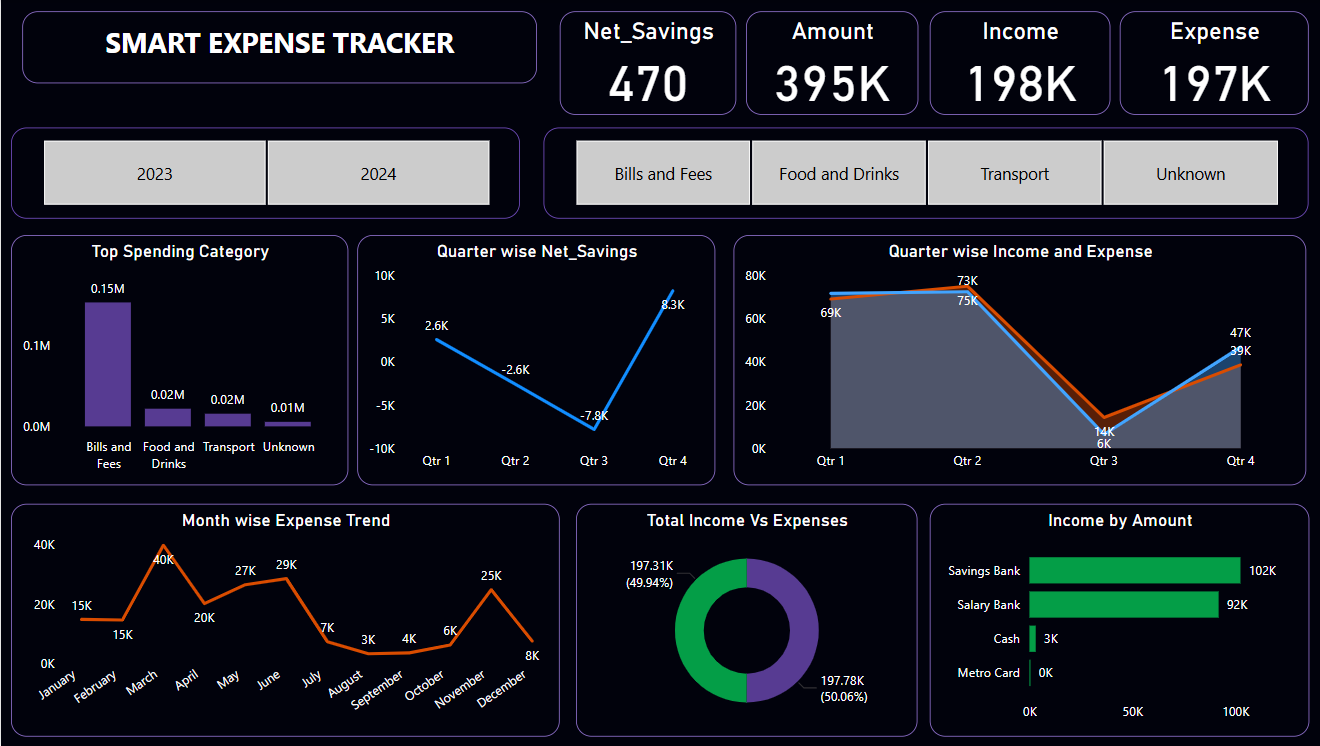

The page's visual inventory and layout, read from the dashboard file:
{"tool":"powerbi","page":{"name":"ET","canvas":[1280,720],"ordinal":0},"visuals":[{"type":"textbox","box":[20.5,10.9,497.1,70],"z":0},{"type":"clusteredColumnChart","title":"Top Spending Category","fields":{"Category":["expense_tracker e_t1.category"],"Y":["Sum(expense_tracker e_t1.amount)"]},"box":[9.6,226.4,325.2,241.5],"z":1000},{"type":"lineChart","title":"Month wise Expense Trend","fields":{"Category":["expense_tracker e_t1.date.Variation.Date Hierarchy.Month"],"Y":["Sum(expense_tracker e_t1.amount)"]},"box":[9.6,485.8,529.7,225],"z":2000},{"type":"donutChart","title":"Total Income Vs Expenses","fields":{"Y":["Sum(expense_tracker e_t1.amount)"],"Category":["expense_tracker e_t1.type"]},"box":[554.4,485.8,329.3,225],"z":3000},{"type":"clusteredBarChart","title":"Income by Amount","fields":{"Category":["expense_tracker e_t1.account"],"Y":["Sum(expense_tracker e_t1.amount)"]},"box":[896.1,485.8,366.4,225],"z":4000},{"type":"lineChart","title":"Quarter wise Net_Savings","fields":{"Y":["expense_tracker e_t1.Net_savings"],"Category":["expense_tracker e_t1.date.Variation.Date Hierarchy.Quarter"]},"box":[344.4,226.4,345.8,241.5],"z":5000},{"type":"areaChart","title":"Quarter wise Income and Expense","fields":{"Category":["expense_tracker e_t1.date.Variation.Date Hierarchy.Quarter"],"Series":["expense_tracker e_t1.type"],"Y":["Sum(expense_tracker e_t1.amount)"]},"box":[706.7,226.4,553,241.5],"z":6000},{"type":"card","title":"Amount","fields":{"Values":["Sum(expense_tracker e_t1.amount)"]},"box":[719,11,166,100.2],"z":7000},{"type":"card","title":"Income","fields":{"Values":["Sum(expense_tracker e_t1.amount)"]},"box":[896.1,11,174.3,100.2],"z":8000},{"type":"card","title":"Expense","fields":{"Values":["Sum(expense_tracker e_t1.amount)"]},"box":[1079.9,11,182.5,100.2],"z":9000},{"type":"card","title":"Net_Savings","fields":{"Values":["expense_tracker e_t1.Net_savings"]},"box":[539.3,11,170.2,100.2],"z":10000},{"type":"slicer","fields":{"Values":["expense_tracker e_t1.date.Variation.Date Hierarchy.Year"]},"box":[9.6,123.5,491.3,87.8],"z":11000},{"type":"slicer","fields":{"Values":["expense_tracker e_t1.category"]},"box":[524.2,123.5,738.3,87.8],"z":12000}]}

Visuals, with their boxes in screenshot pixels (x1, y1, x2, y2), scaled from the page's 1280x720 canvas onto the 1320x746 screenshot:
textbox: select_region(21, 11, 534, 84)
"Top Spending Category" clusteredColumnChart: select_region(10, 235, 345, 485)
"Month wise Expense Trend" lineChart: select_region(10, 503, 556, 736)
"Total Income Vs Expenses" donutChart: select_region(572, 503, 911, 736)
"Income by Amount" clusteredBarChart: select_region(924, 503, 1302, 736)
"Quarter wise Net_Savings" lineChart: select_region(355, 235, 712, 485)
"Quarter wise Income and Expense" areaChart: select_region(729, 235, 1299, 485)
"Amount" card: select_region(741, 11, 913, 115)
"Income" card: select_region(924, 11, 1104, 115)
"Expense" card: select_region(1114, 11, 1302, 115)
"Net_Savings" card: select_region(556, 11, 732, 115)
slicer - expense_tracker e_t1.date.Variation.Date Hierarchy.Year: select_region(10, 128, 517, 219)
slicer - expense_tracker e_t1.category: select_region(541, 128, 1302, 219)
